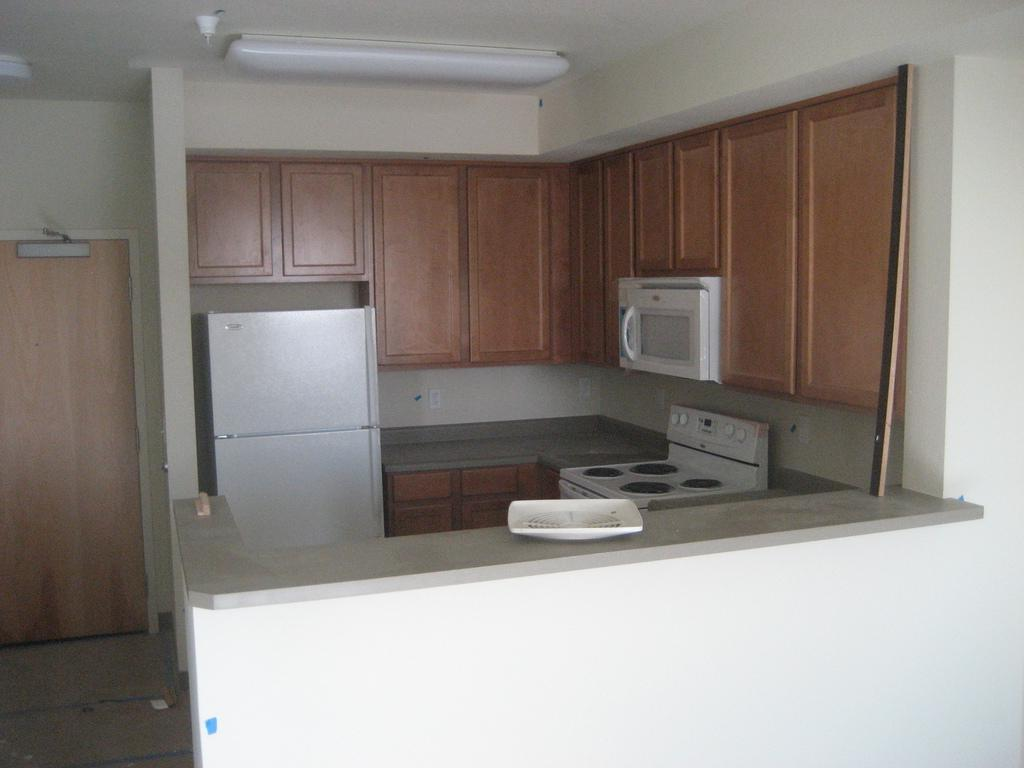door: (0, 244, 129, 632)
